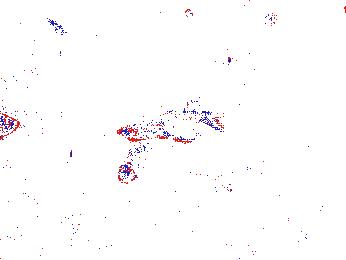X-ray fish: (184, 143, 264, 194), (116, 138, 149, 186), (1, 111, 21, 139)
red belly glassfish: (180, 6, 202, 29), (261, 6, 279, 30)
redtail glassfish: (113, 104, 227, 143)
